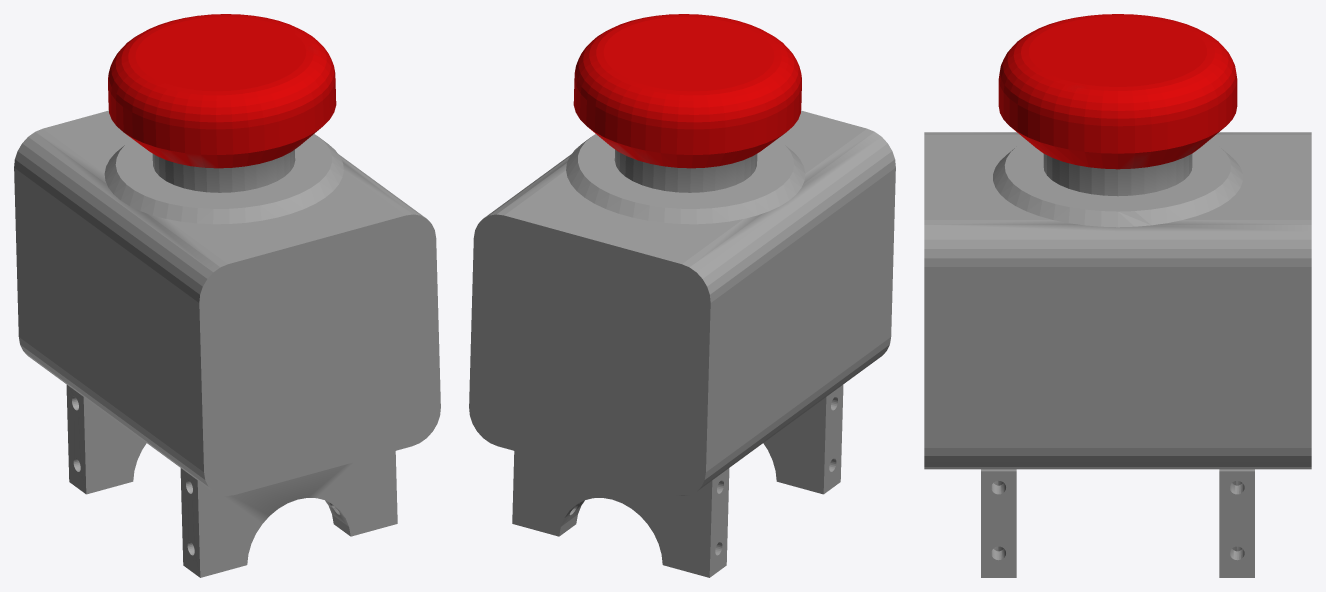
Rendered from emergency_button.dae.
The picture shows the model from 3 angles, left to right: view 1: azimuth 30°, elevation 25°; view 2: azimuth 150°, elevation 25°; view 3: azimuth 270°, elevation 25°; orthographic projection. The views are drawn at different scales.
Parts seen in each view (by area): view 1: node; view 2: node; view 3: node.
Part boxes in pixels (left/top/right/bottom): node: left=14, top=14, right=440, bottom=577; node: left=469, top=14, right=895, bottom=577; node: left=924, top=14, right=1311, bottom=577.
Size of the model in its own units: 4.89 by 8.85 by 6.5.
